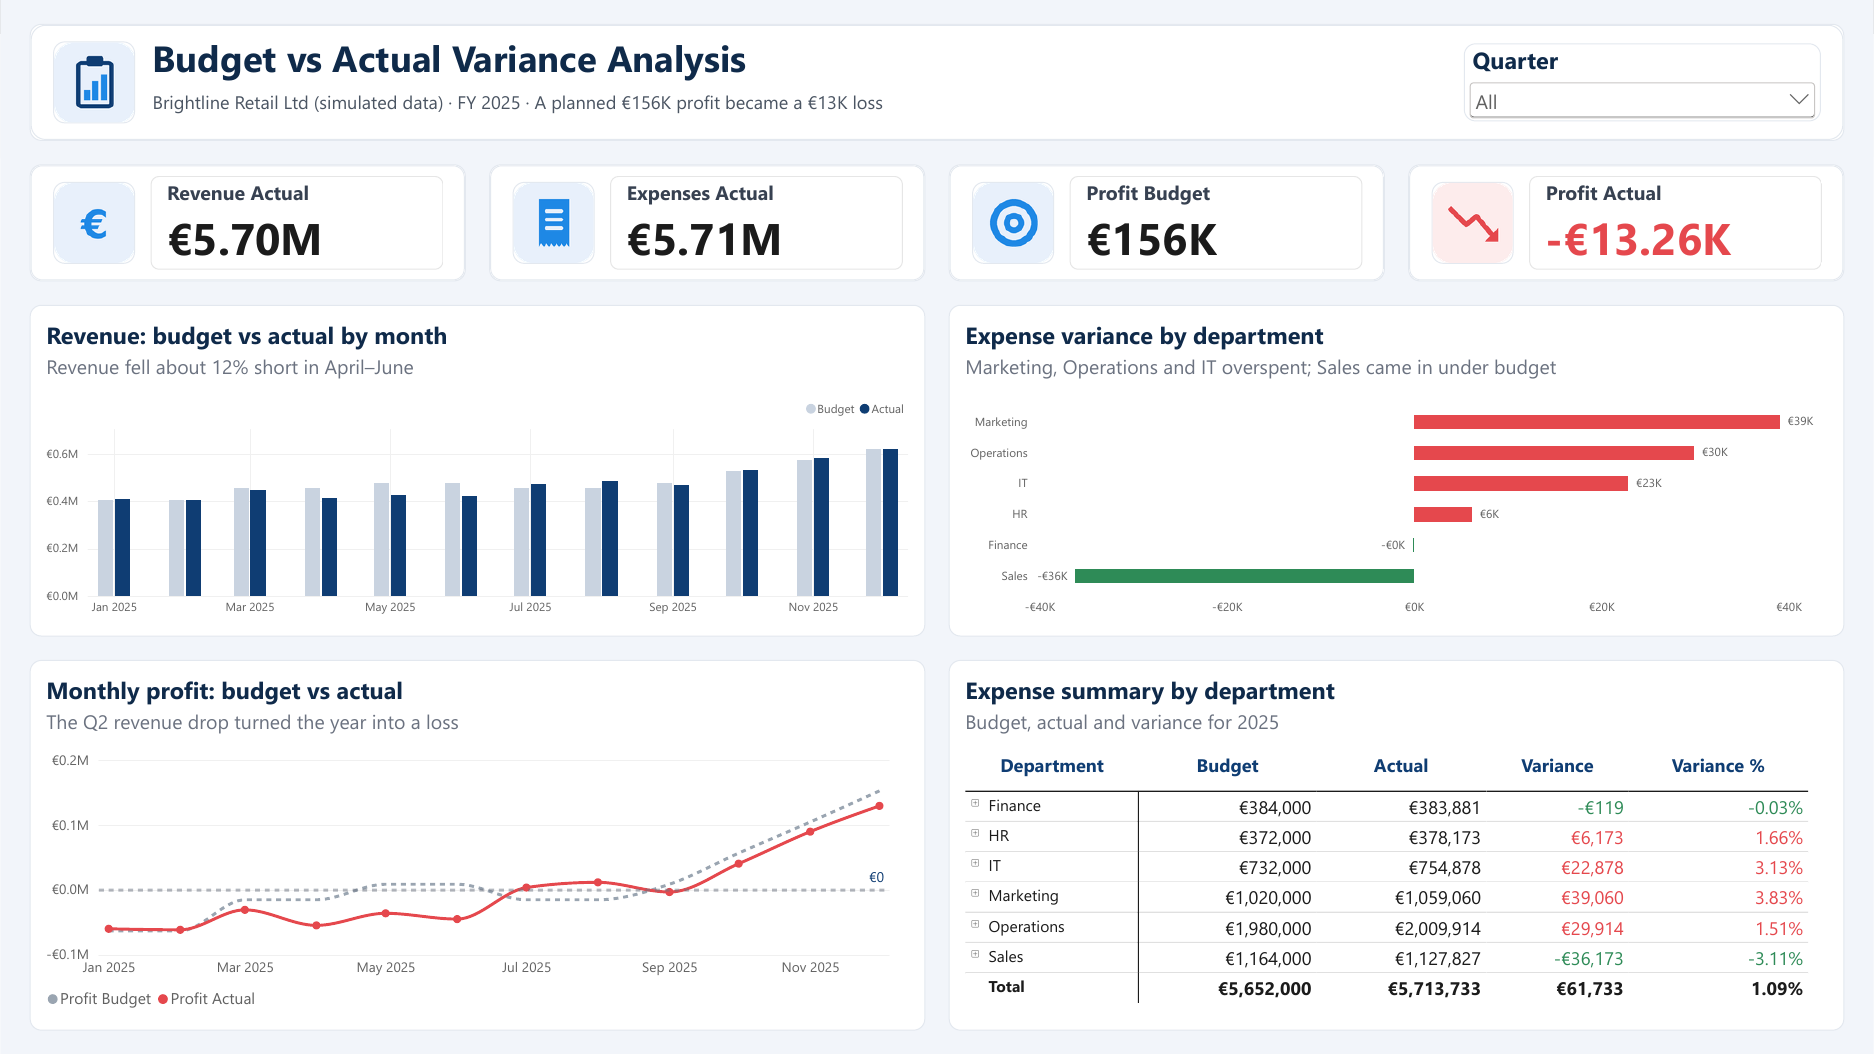

The dashboard page shown, as its layout file describes it:
{"tool":"powerbi","page":{"name":"Page 1","canvas":[1920,1080],"ordinal":0},"visuals":[{"type":"clusteredColumnChart","title":"Revenue: budget vs actual by month","fields":{"Category":["budget_vs_actual_2025.Month"],"Y":["budget_vs_actual_2025.Budget Total","budget_vs_actual_2025.Actual Total"]},"box":[30,312,918,340],"z":3000},{"type":"clusteredBarChart","title":"Expense variance by department","fields":{"Category":["budget_vs_actual_2025.Department"],"Y":["budget_vs_actual_2025.Variance"]},"box":[972,312,918,340],"z":4000},{"type":"pivotTable","title":"Expense summary by department","fields":{"Rows":["budget_vs_actual_2025.Department","budget_vs_actual_2025.Category"],"Values":["budget_vs_actual_2025.Budget Total","budget_vs_actual_2025.Actual Total","budget_vs_actual_2025.Variance","budget_vs_actual_2025.Variance %"]},"box":[972,676,918,380],"z":5000},{"type":"shape","box":[30,24,1860,120],"z":6000},{"type":"image","box":[54,42,84,84],"z":7000},{"type":"textbox","box":[156,34,1100,56],"z":8000},{"type":"textbox","box":[156,92,1100,40],"z":9000},{"type":"slicer","fields":{"Values":["budget_vs_actual_2025.Quarter"]},"box":[1500,44,366,80],"z":10000},{"type":"shape","box":[30,168,447,120],"z":11000},{"type":"image","box":[54,186,84,84],"z":12000},{"type":"shape","box":[501,168,447,120],"z":13000},{"type":"image","box":[525,186,84,84],"z":14000},{"type":"shape","box":[972,168,447,120],"z":15000},{"type":"shape","box":[1443,168,447,120],"z":16000},{"type":"image","box":[996,186,84,84],"z":17000},{"type":"image","box":[1467,186,84,84],"z":18000},{"type":"cardVisual","fields":{"Data":["budget_vs_actual_2025.Expenses Actual"]},"box":[625,180,300,96],"z":18500},{"type":"cardVisual","fields":{"Data":["budget_vs_actual_2025.Profit Budget"]},"box":[1096,180,300,96],"z":18750},{"type":"cardVisual","fields":{"Data":["budget_vs_actual_2025.Revenue Actual"]},"box":[154,180,300,96],"z":19000},{"type":"cardVisual","fields":{"Data":["budget_vs_actual_2025.Profit Actual"]},"box":[1567,180,300,96],"z":19500},{"type":"lineChart","title":"Monthly profit: budget vs actual","fields":{"Category":["budget_vs_actual_2025.Month"],"Y":["budget_vs_actual_2025.Profit Budget","budget_vs_actual_2025.Profit Actual"]},"box":[30,676,918,380],"z":19501}]}

Visuals, with their boxes in screenshot pixels (x1, y1, x2, y2), scaled from the page's 1920x1080 canvas onto the 1874x1054 screenshot:
"Revenue: budget vs actual by month" clusteredColumnChart: x1=29, y1=304, x2=925, y2=636
"Expense variance by department" clusteredBarChart: x1=949, y1=304, x2=1845, y2=636
"Expense summary by department" pivotTable: x1=949, y1=660, x2=1845, y2=1031
shape: x1=29, y1=23, x2=1845, y2=141
image: x1=53, y1=41, x2=135, y2=123
textbox: x1=152, y1=33, x2=1226, y2=88
textbox: x1=152, y1=90, x2=1226, y2=129
slicer - budget_vs_actual_2025.Quarter: x1=1464, y1=43, x2=1821, y2=121
shape: x1=29, y1=164, x2=466, y2=281
image: x1=53, y1=182, x2=135, y2=264
shape: x1=489, y1=164, x2=925, y2=281
image: x1=512, y1=182, x2=594, y2=264
shape: x1=949, y1=164, x2=1385, y2=281
shape: x1=1408, y1=164, x2=1845, y2=281
image: x1=972, y1=182, x2=1054, y2=264
image: x1=1432, y1=182, x2=1514, y2=264
cardVisual - budget_vs_actual_2025.Expenses Actual: x1=610, y1=176, x2=903, y2=269
cardVisual - budget_vs_actual_2025.Profit Budget: x1=1070, y1=176, x2=1363, y2=269
cardVisual - budget_vs_actual_2025.Revenue Actual: x1=150, y1=176, x2=443, y2=269
cardVisual - budget_vs_actual_2025.Profit Actual: x1=1529, y1=176, x2=1822, y2=269
"Monthly profit: budget vs actual" lineChart: x1=29, y1=660, x2=925, y2=1031
